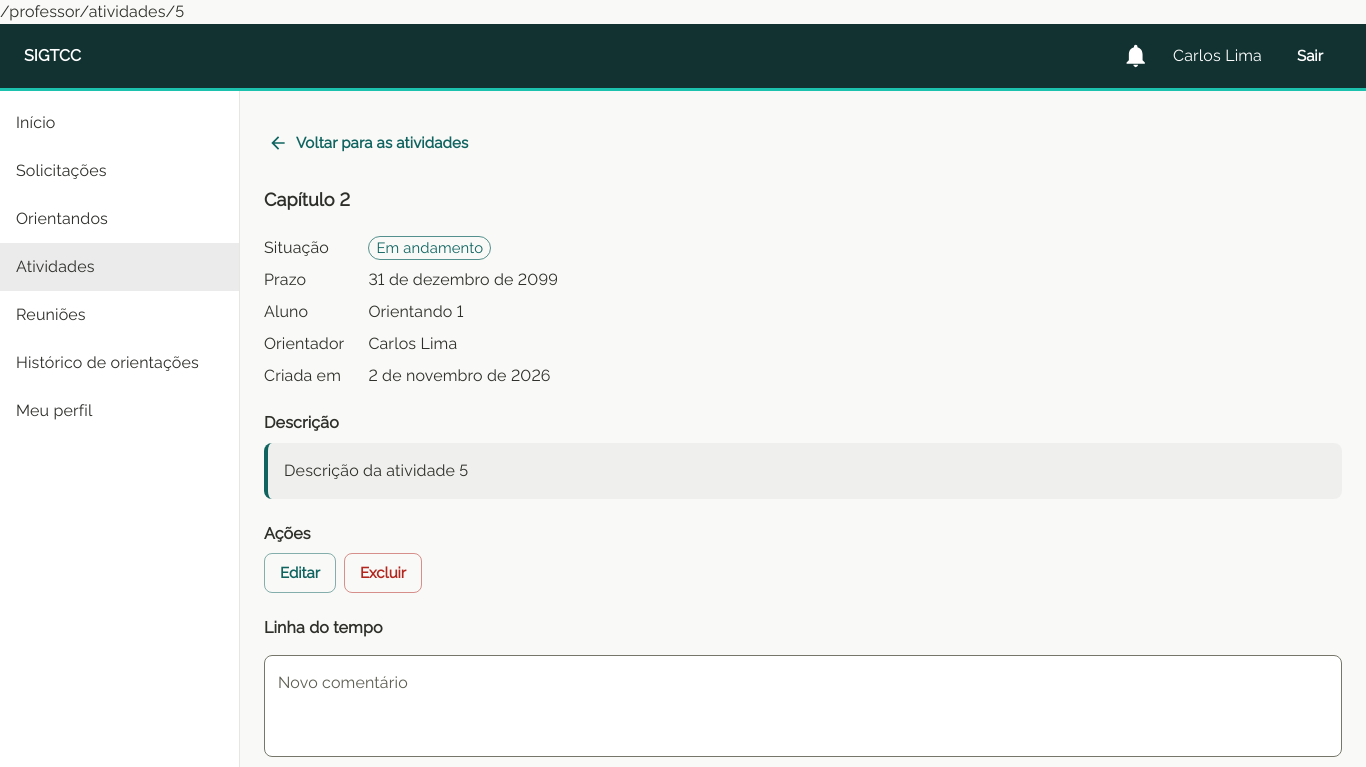
it: Excluir atividade: falhas › um 409 mostra a mensagem do servidor, fecha a confirmação e atualiza o detalhe
This screenshot has width=1366, height=767.
Click the button "Excluir" at (383, 573), box [344, 553, 422, 593]
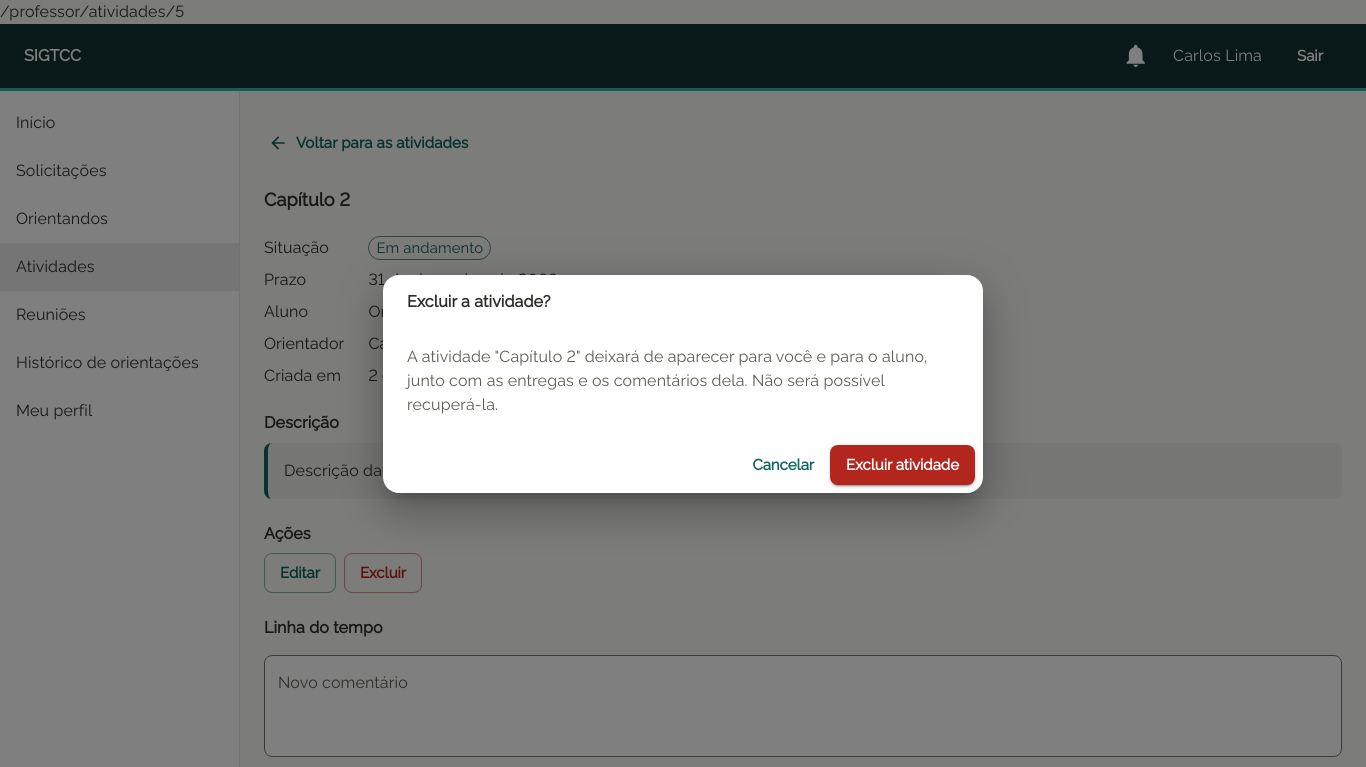
Click the button "Excluir atividade" at (903, 465), box [830, 445, 975, 485]
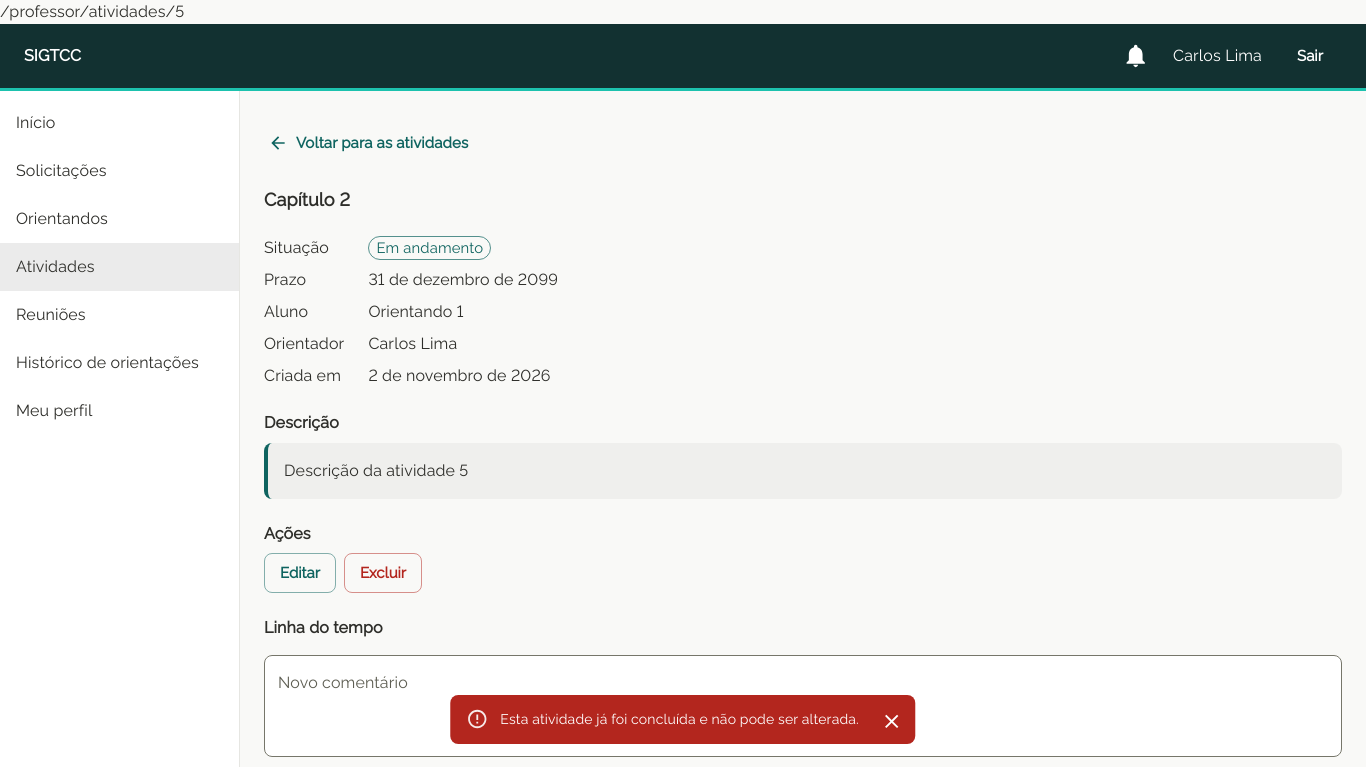
Expected: the text with test id "location" reads "/professor/atividades/5", [0, 2, 184, 21]
Now the text "Esta atividade já foi concluída e não pode ser alterada." is shown, box [500, 711, 859, 727]
Now the heading "Excluir a atividade?" is gone
